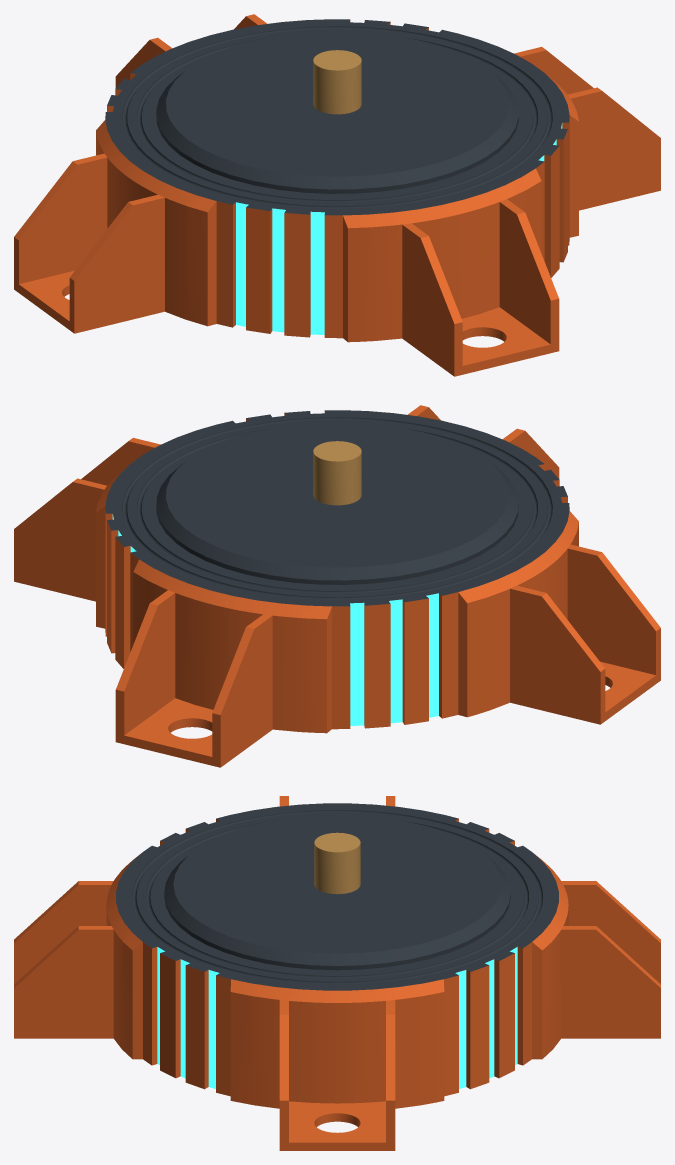
The picture shows the model from 3 angles, top to bottom: view 1: azimuth 30°, elevation 25°; view 2: azimuth 150°, elevation 25°; view 3: azimuth 270°, elevation 25°; orthographic projection. The views are drawn at different scales.
Bounding box in the file's own units: 0.14 × 0.041 × 0.14.
